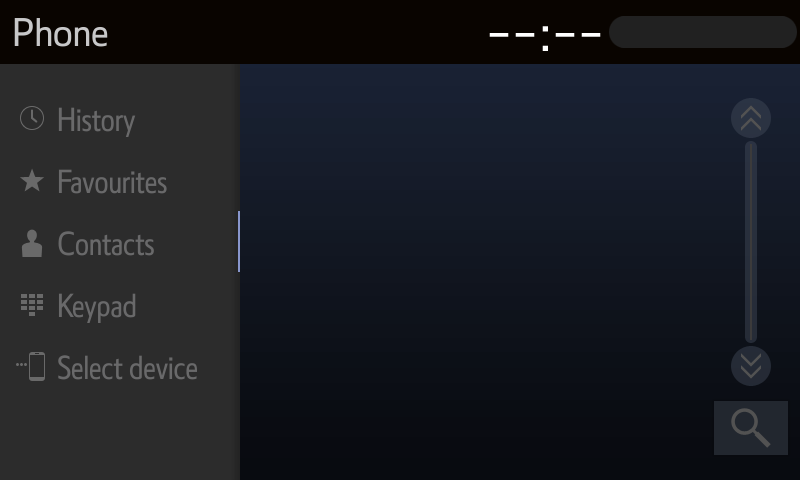untouchPart: (727, 97, 774, 385), (13, 347, 198, 390), (607, 14, 798, 53), (17, 162, 166, 202), (17, 284, 146, 325), (18, 100, 137, 141), (481, 17, 601, 56), (20, 225, 156, 259), (12, 14, 109, 54), (714, 401, 786, 454)
